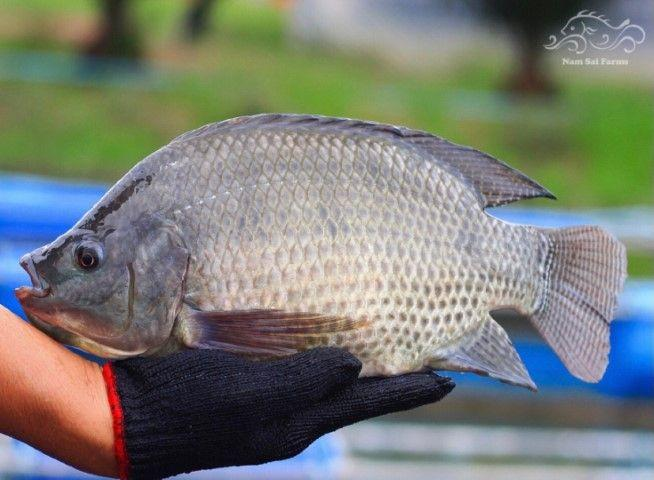Tilapia: (17, 108, 628, 391)
